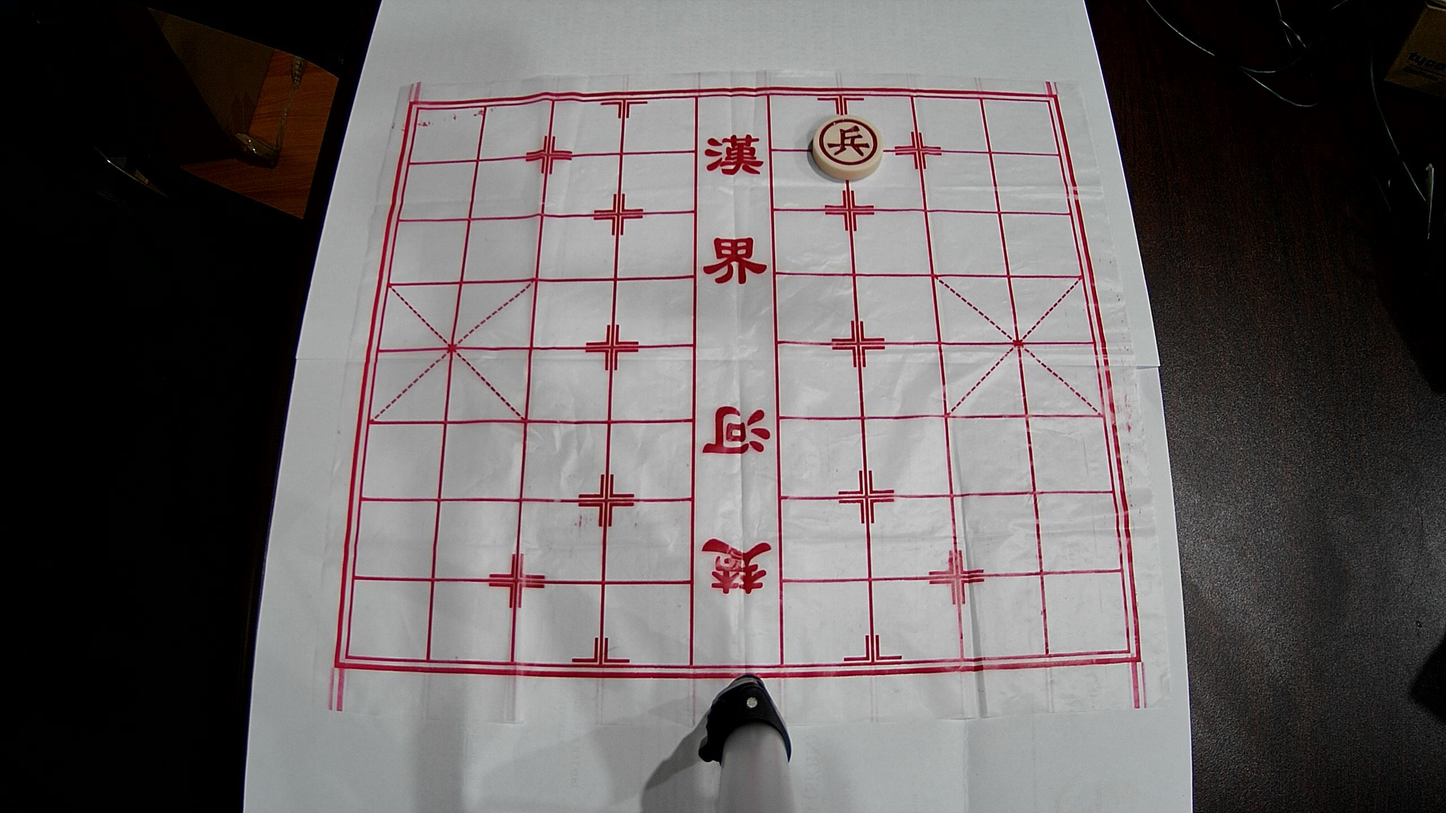Red-Soldier: (813, 115, 883, 180)
